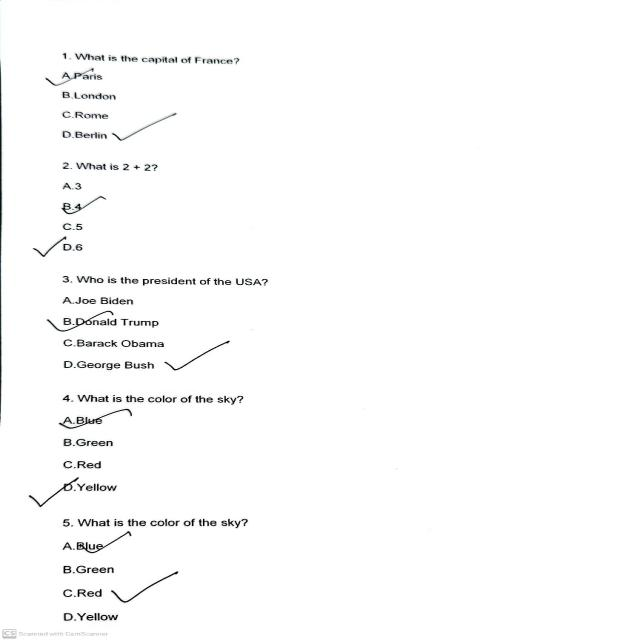Student_Ticked: (56, 405, 130, 431), (28, 477, 84, 507), (158, 350, 237, 370), (116, 115, 176, 140), (120, 577, 177, 603), (44, 312, 112, 333), (46, 63, 100, 87), (86, 534, 134, 558), (61, 196, 117, 213), (33, 236, 67, 257)
